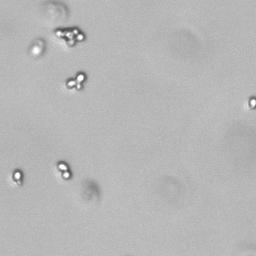budding: (65, 72, 86, 91), (57, 161, 71, 180), (11, 169, 23, 186)
cluster: (53, 27, 86, 47)
individual: (249, 95, 256, 110)
